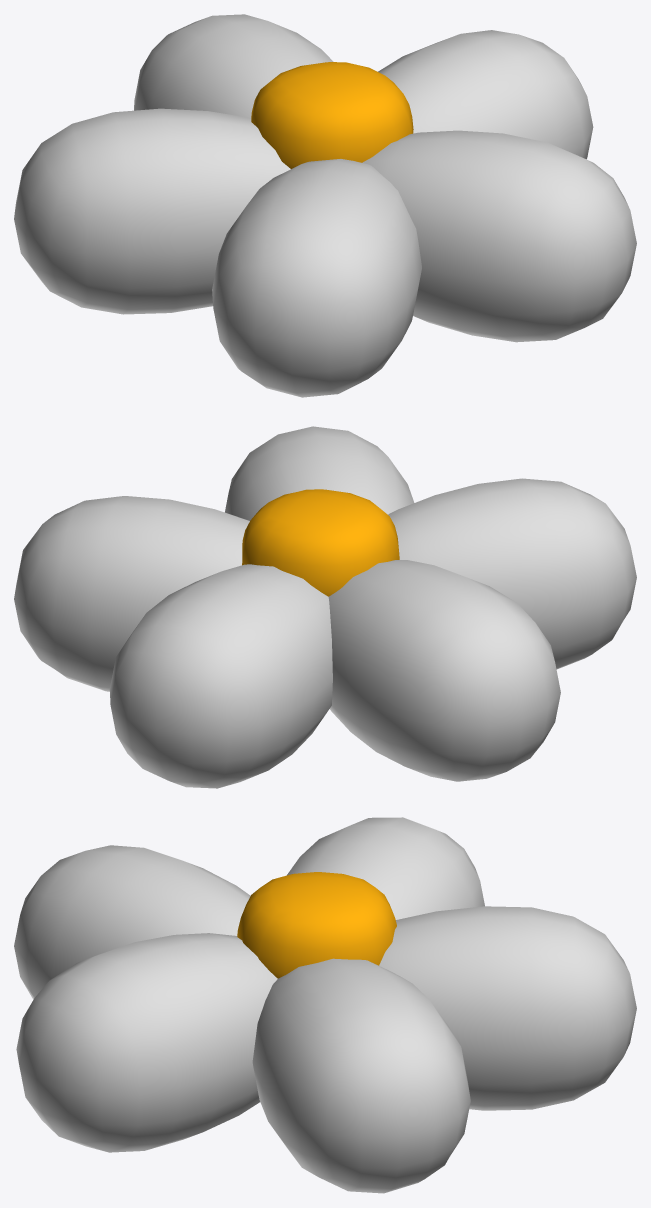
The model's file is flor blanca.fbx.
3 renders of one model, top to bottom at view 1: azimuth 30°, elevation 25°; view 2: azimuth 150°, elevation 25°; view 3: azimuth 270°, elevation 25°, orthographic. The views are drawn at different scales.
Visible parts, largest first — view 1: Cubo.034; view 2: Cubo.034; view 3: Cubo.034.
Part boxes in pixels (x1,y1,x2,y2): Cubo.034: (14,14,636,397); Cubo.034: (14,426,636,788); Cubo.034: (14,817,636,1193).
Bounding box in the file's own units: 738 × 270 × 730.
